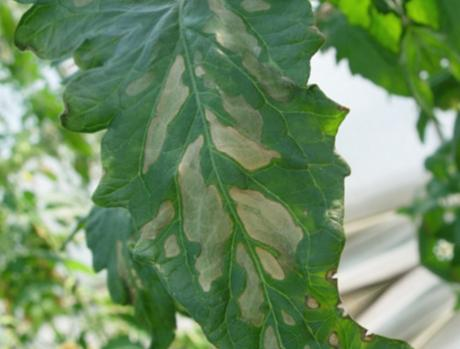Tomato leaf bacterial spot: (33, 0, 458, 349)
